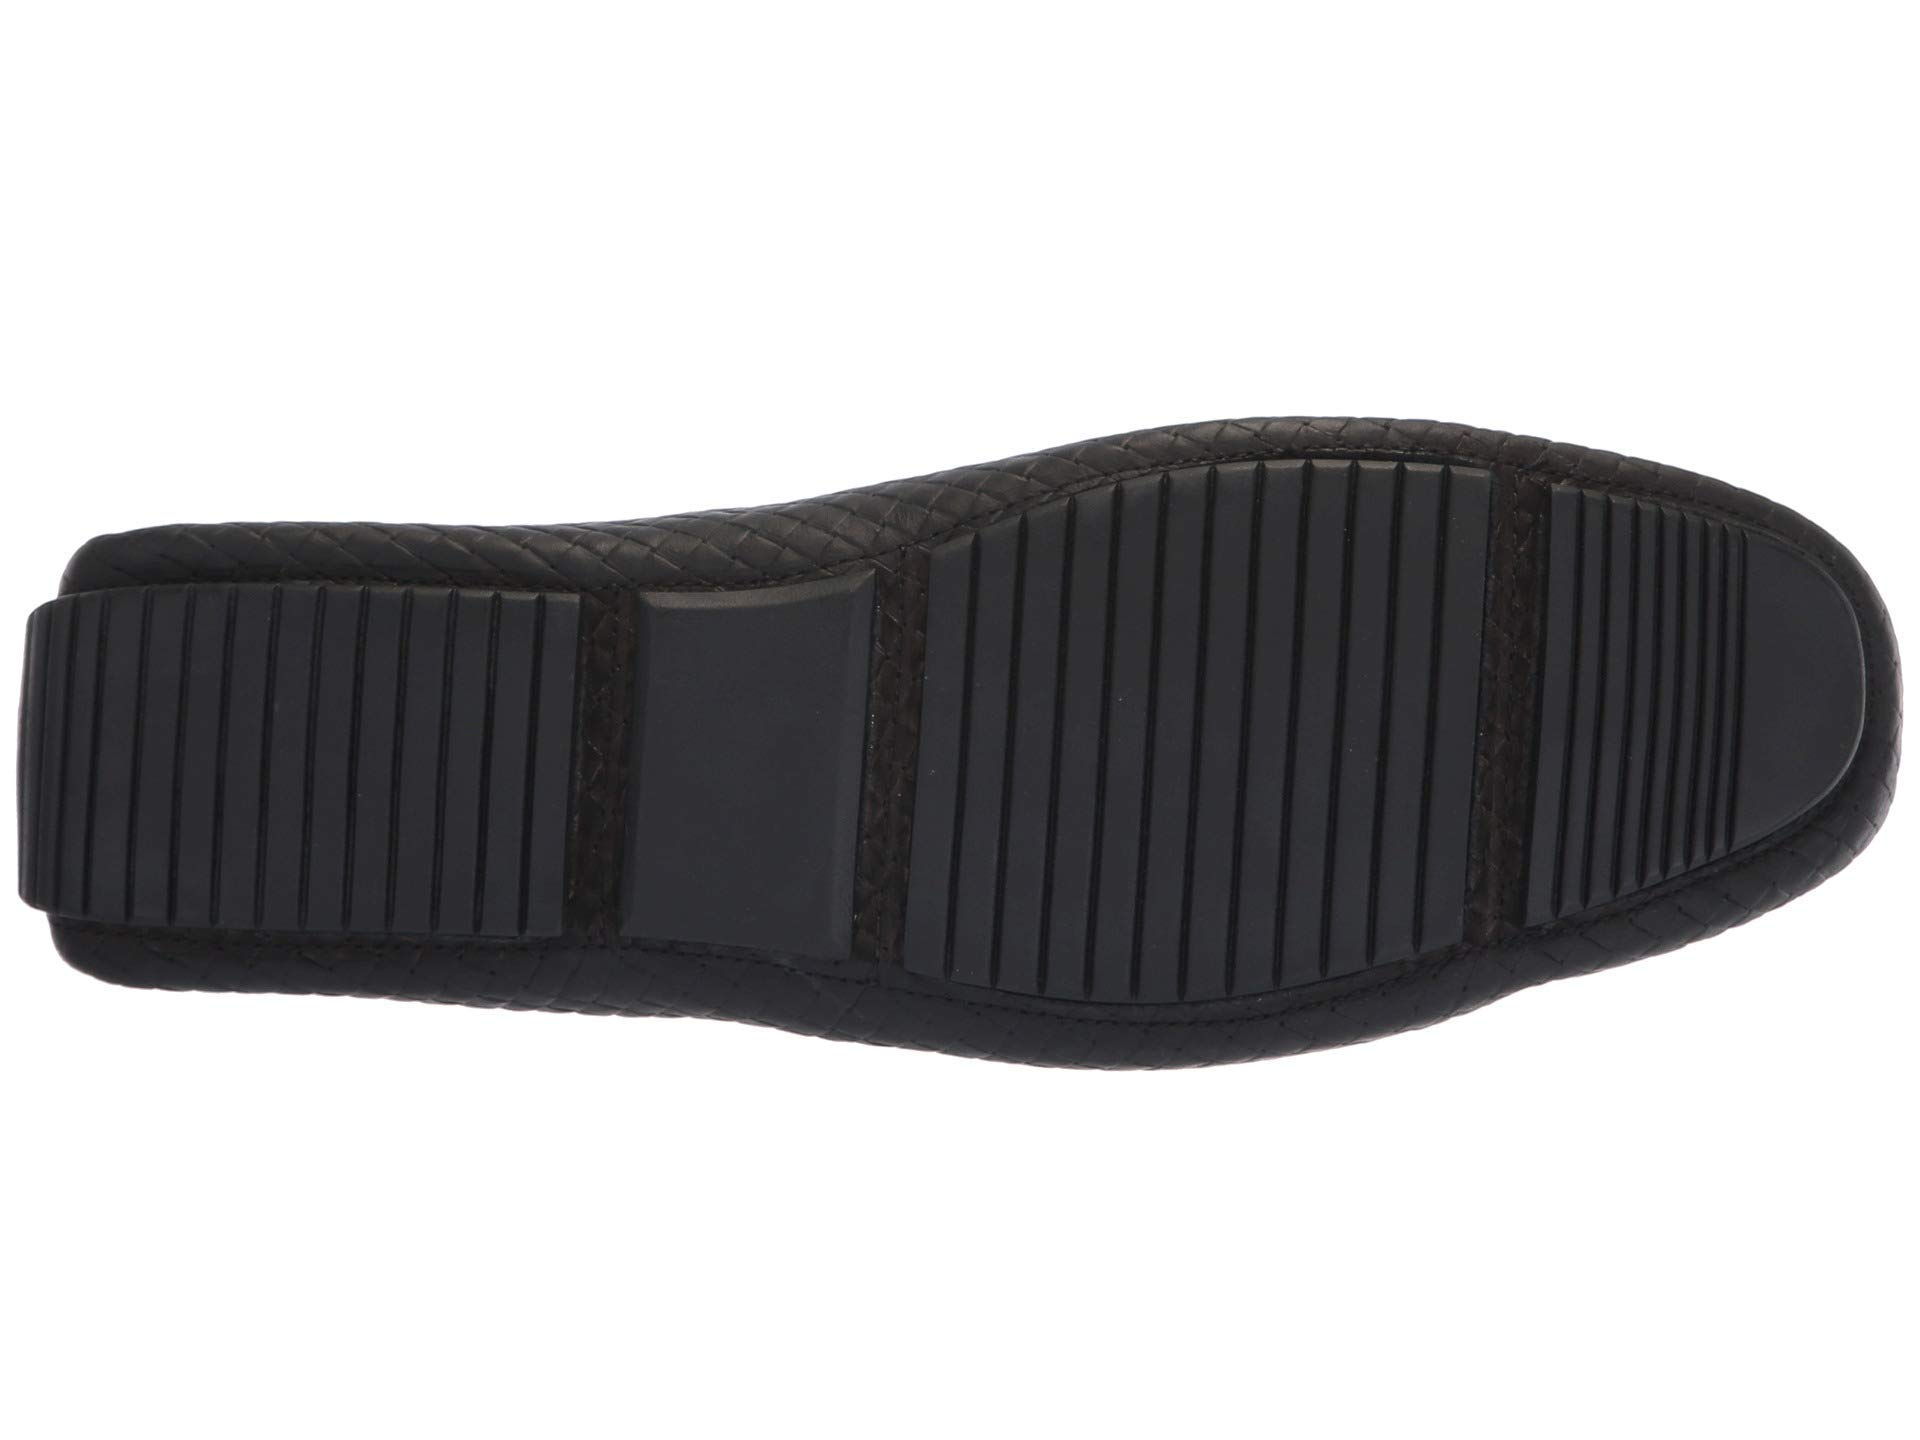line: (1110, 452, 1362, 1018)
quad: (1110, 452, 1362, 1018), (596, 560, 893, 979), (210, 579, 458, 945)
